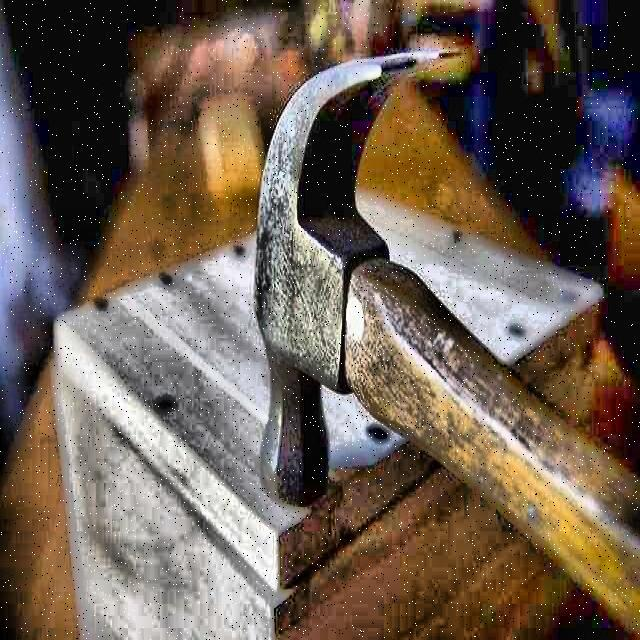hammer: (252, 43, 640, 610)
